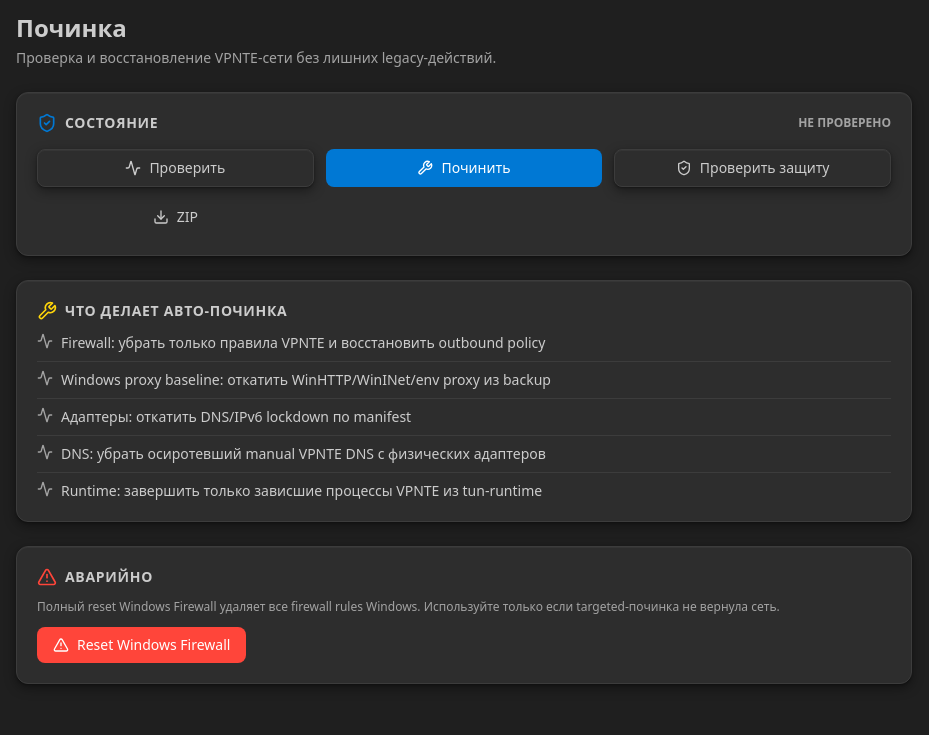
Scenario: cancels pending routing when the companion leak check fails
This screenshot has width=929, height=735.
Click the button "Проверить защиту" at x=753, y=168, box 614,149 -> 891,187
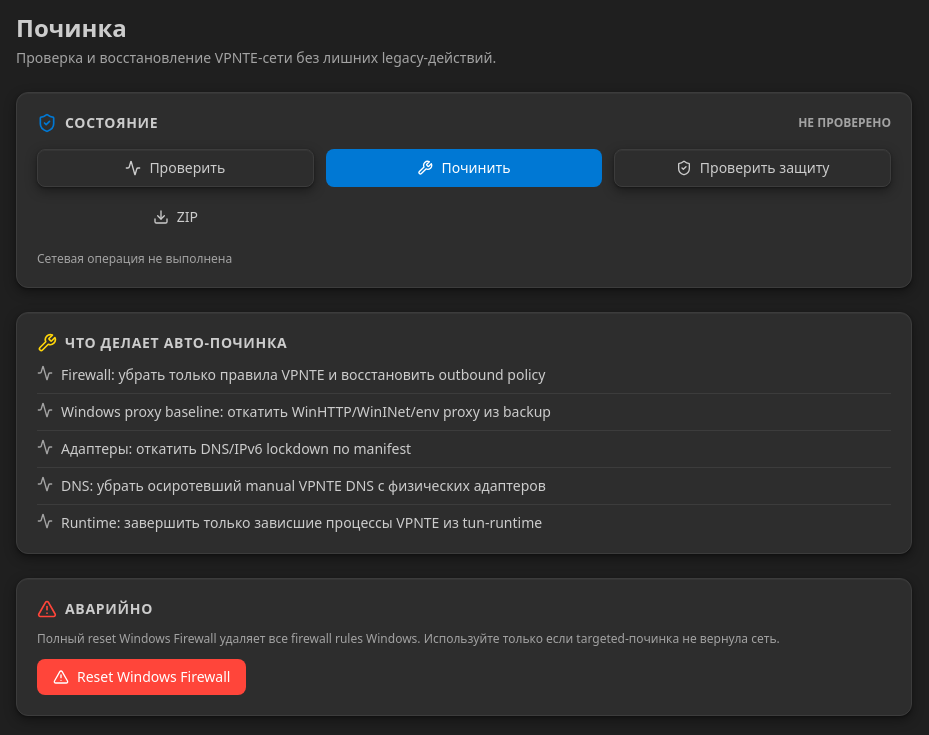
Check: the text "Сетевая операция не выполнена" is shown, box 37,250 -> 232,267
